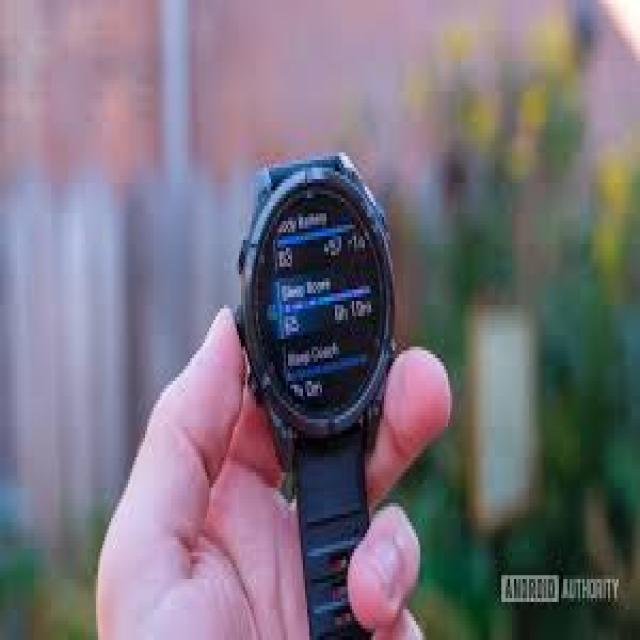objects: (237, 152, 397, 636)
